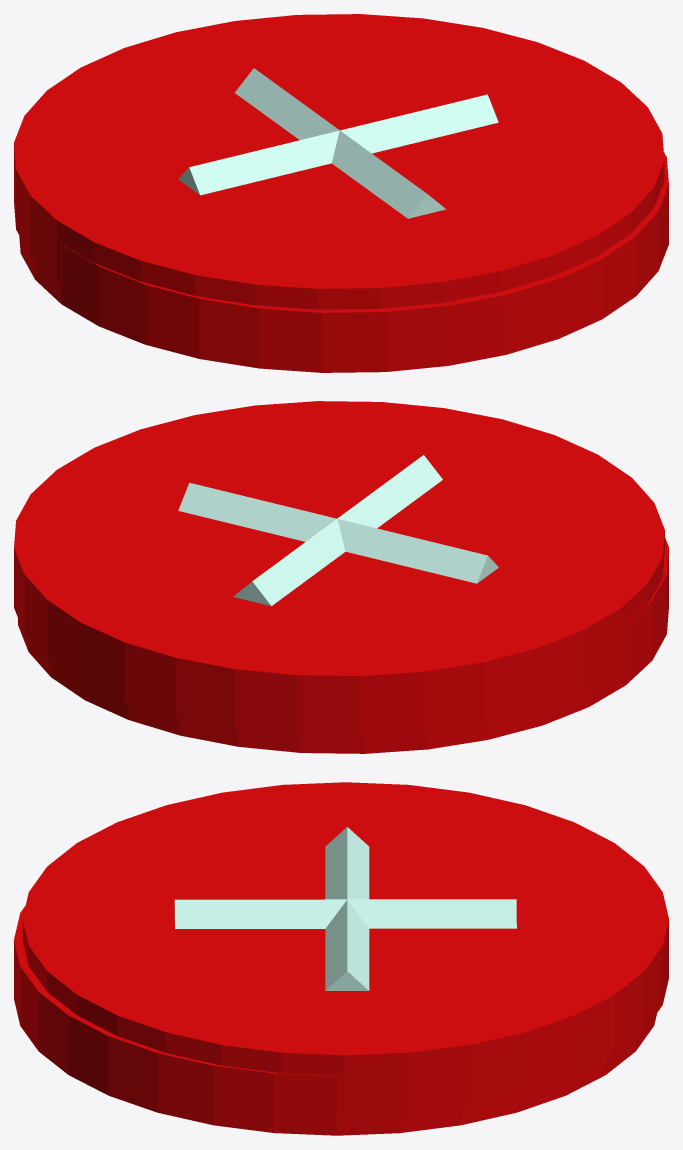
Rendered from coin2s.glb.
3 views of the same model, one above another, from view 1: azimuth 30°, elevation 25°; view 2: azimuth 150°, elevation 25°; view 3: azimuth 270°, elevation 25° (orthographic).
Visible parts, largest first — view 1: Cylinder.001; view 2: Cylinder.001; view 3: Cylinder.001.
Part boxes in pixels (<box>): Cylinder.001: <box>14,14,668,372</box>; Cylinder.001: <box>14,401,668,753</box>; Cylinder.001: <box>14,782,668,1135</box>.
Bounding box in the file's own units: 2 × 0.4107 × 2.03.
